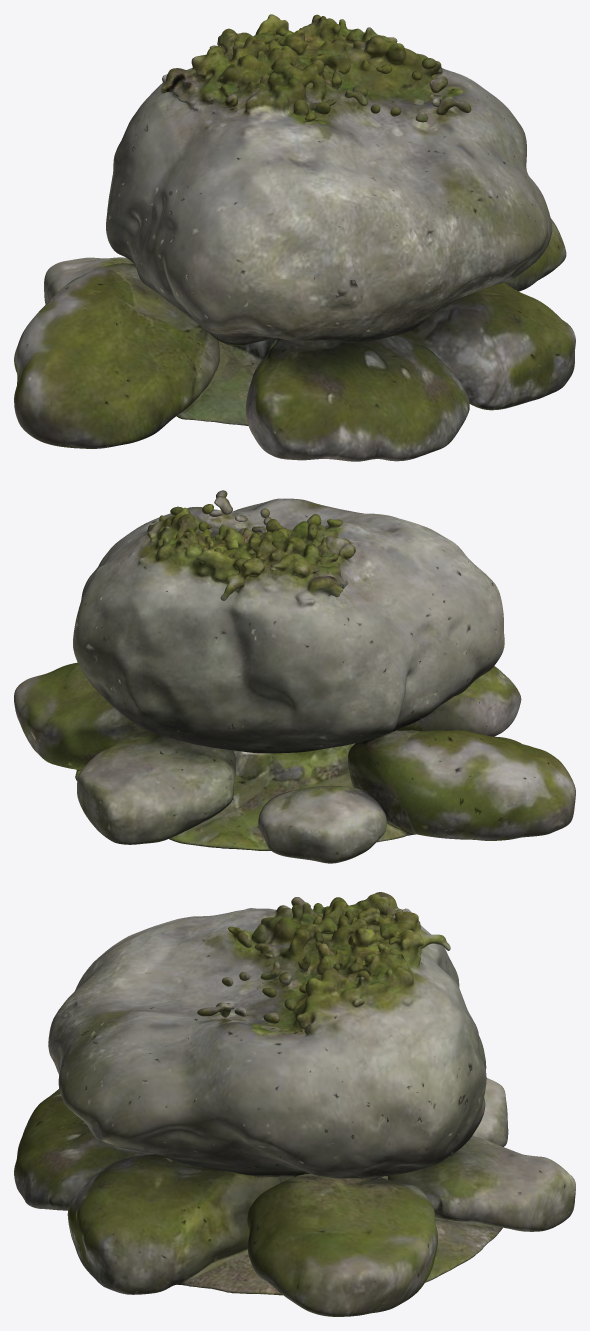
Rendered from Meshy_AI_A_large_oval_boulder_0221034519_texture.glb.
3 renders of one model, top to bottom at view 1: azimuth 30°, elevation 25°; view 2: azimuth 150°, elevation 25°; view 3: azimuth 270°, elevation 25°, orthographic. The views are drawn at different scales.
Size of the model in its own units: 2 by 0.9933 by 1.71.
1 material, 1 textured.
